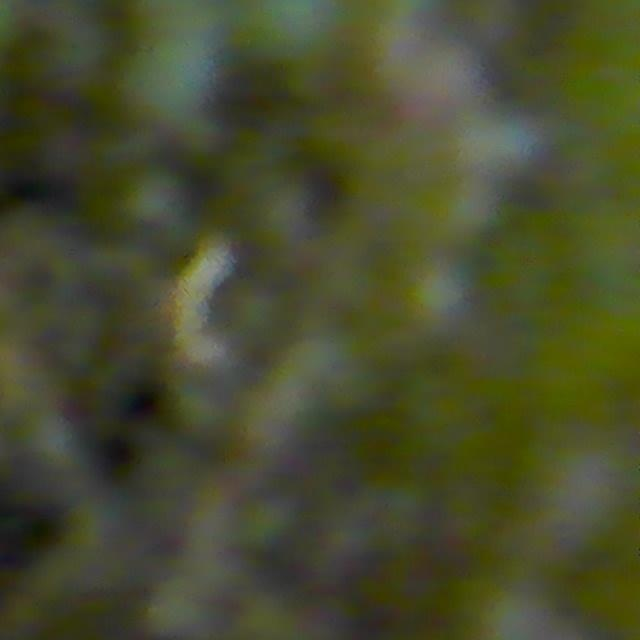SeaGrape: (121, 27, 224, 127), (243, 0, 344, 67), (118, 164, 193, 240)
